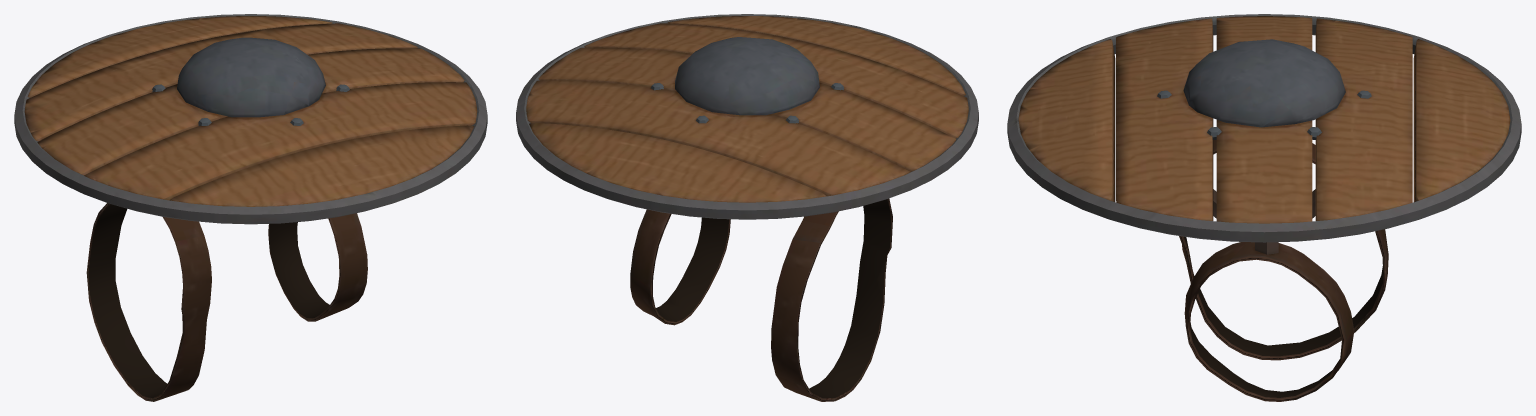
The model's file is shield_buckler.glb.
3 renders of one model, left to right at view 1: azimuth 30°, elevation 25°; view 2: azimuth 150°, elevation 25°; view 3: azimuth 270°, elevation 25°, orthographic. The views are drawn at different scales.
Visible parts, largest first — view 1: shield; view 2: shield; view 3: shield.
Part boxes in pixels (x1=…): shield: x1=14, y1=14, x2=487, y2=401; shield: x1=516, y1=14, x2=978, y2=401; shield: x1=1007, y1=14, x2=1521, y2=401.
Size of the model in its own units: 0.3699 by 0.2808 by 0.3699.
Materials: 1 (1 with a texture image).
